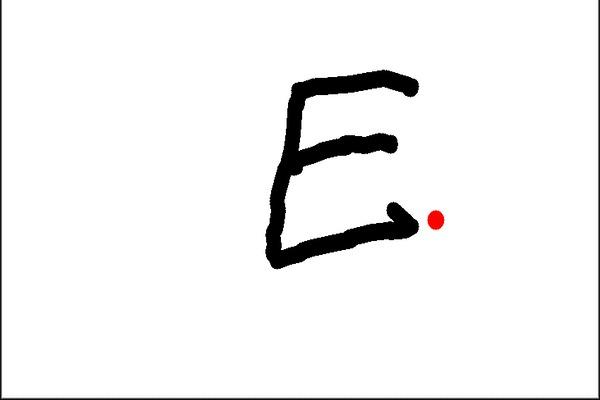E: (256, 65, 426, 272)
